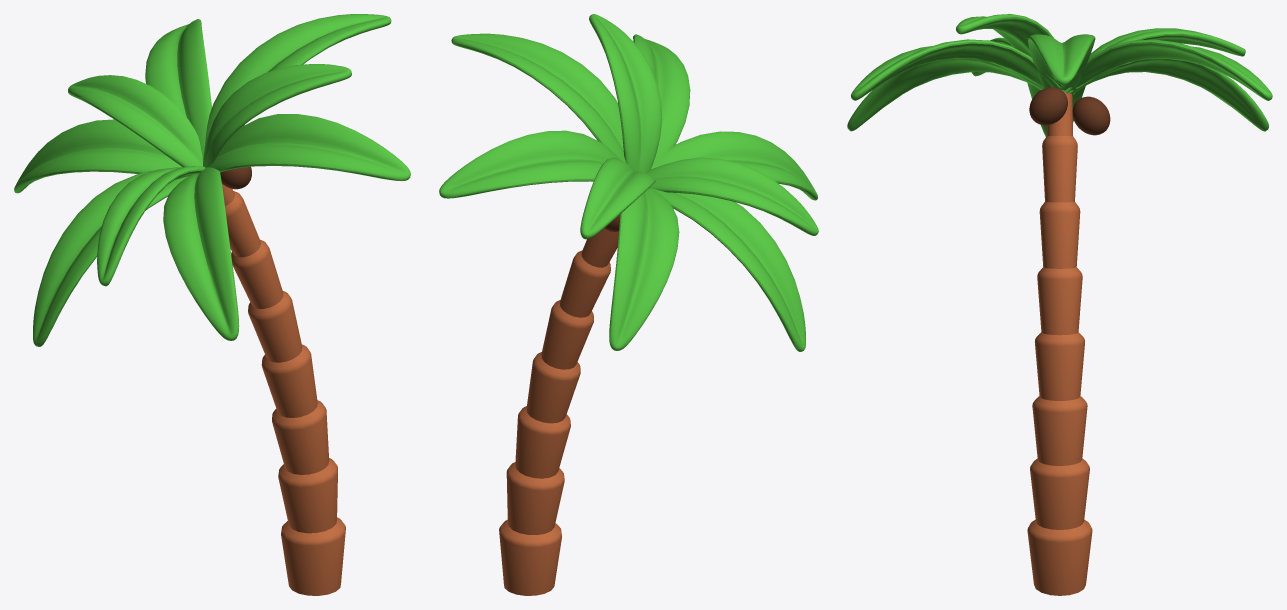
Rendered from palmier_C_MOD_v01.fbx.
3 views of the same model, side by side, from view 1: azimuth 30°, elevation 25°; view 2: azimuth 150°, elevation 25°; view 3: azimuth 270°, elevation 25° (orthographic). The views are drawn at different scales.
Visible parts, largest first — view 1: Plane.012, Cylinder.006, Sphere.006; view 2: Plane.012, Cylinder.006; view 3: Cylinder.006, Plane.012, Sphere.006.
Part boxes in pixels (x1,y1,x2,y2): Plane.012: [14, 14, 410, 346]; Cylinder.006: [222, 184, 345, 595]; Sphere.006: [220, 167, 251, 189]; Plane.012: [439, 14, 818, 351]; Cylinder.006: [499, 228, 618, 595]; Cylinder.006: [1027, 92, 1092, 595]; Plane.012: [847, 14, 1272, 136]; Sphere.006: [1029, 87, 1110, 135].
Bounding box in the file's own units: 422 × 625 × 437.
